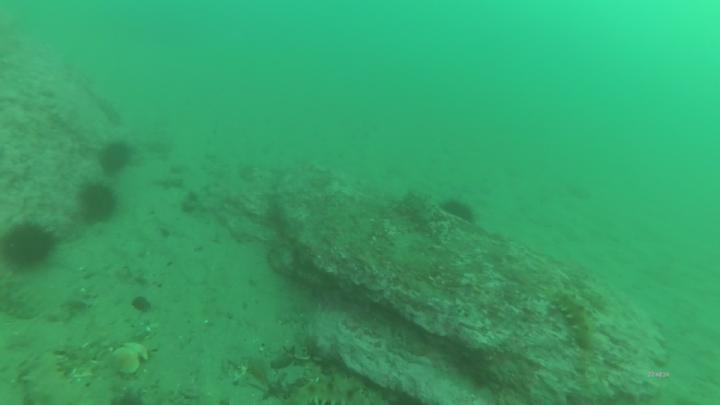echinus: (1, 221, 54, 272), (74, 182, 124, 225), (95, 142, 136, 179), (440, 198, 482, 229)
holothurian: (550, 288, 602, 356), (395, 188, 461, 238), (280, 375, 374, 405), (1, 271, 46, 323)
scallop: (107, 342, 142, 378)
